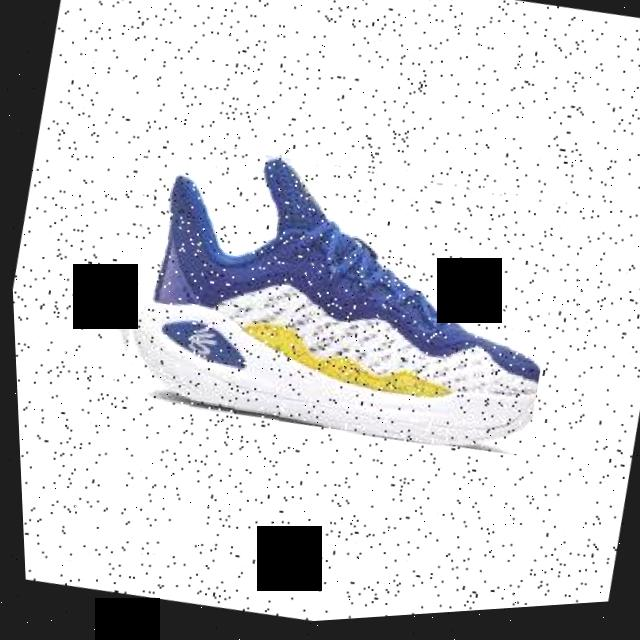shoe: (93, 118, 573, 481), (124, 156, 537, 450)
